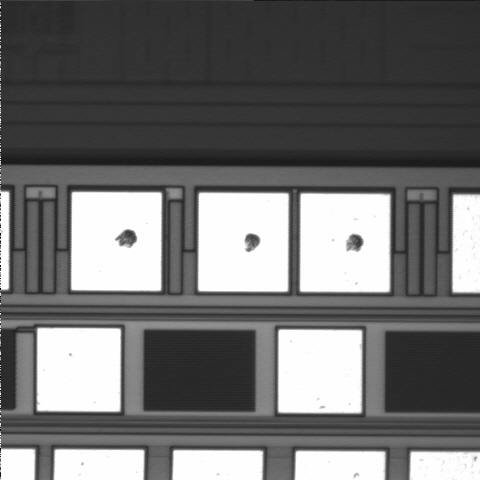pad: (71, 192, 162, 291), (198, 193, 288, 292), (300, 194, 390, 292), (37, 328, 121, 412), (278, 330, 362, 413)
